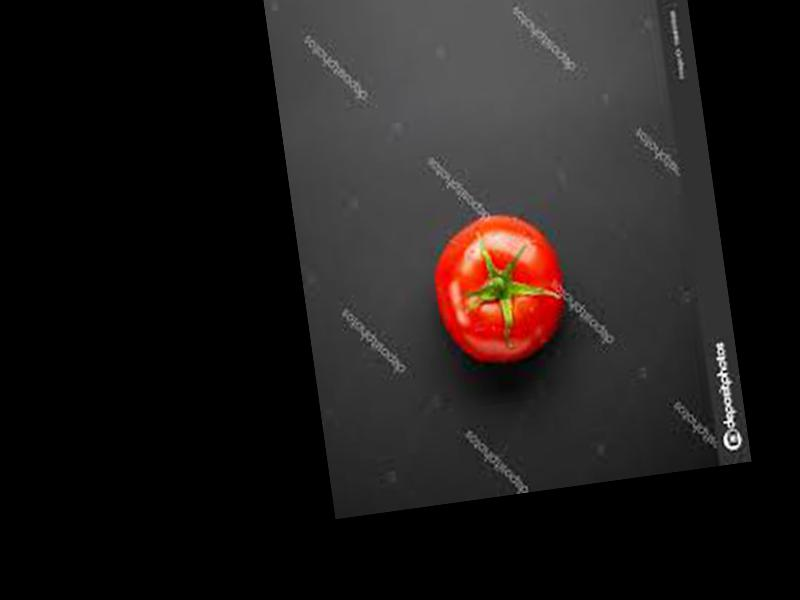Tomato: (424, 204, 573, 369)
